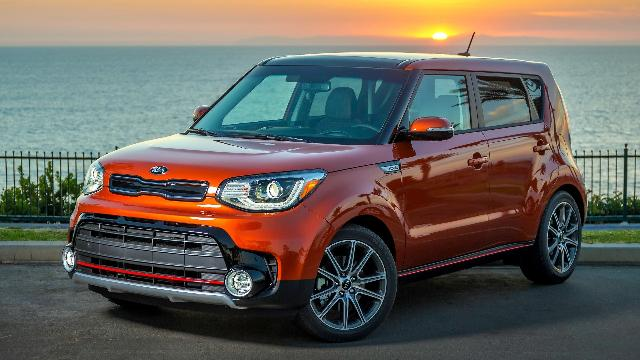kia: (61, 32, 587, 342)
